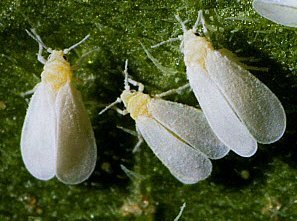Tobacco Whitefly: (157, 4, 290, 158), (98, 51, 214, 204), (18, 28, 101, 190)
